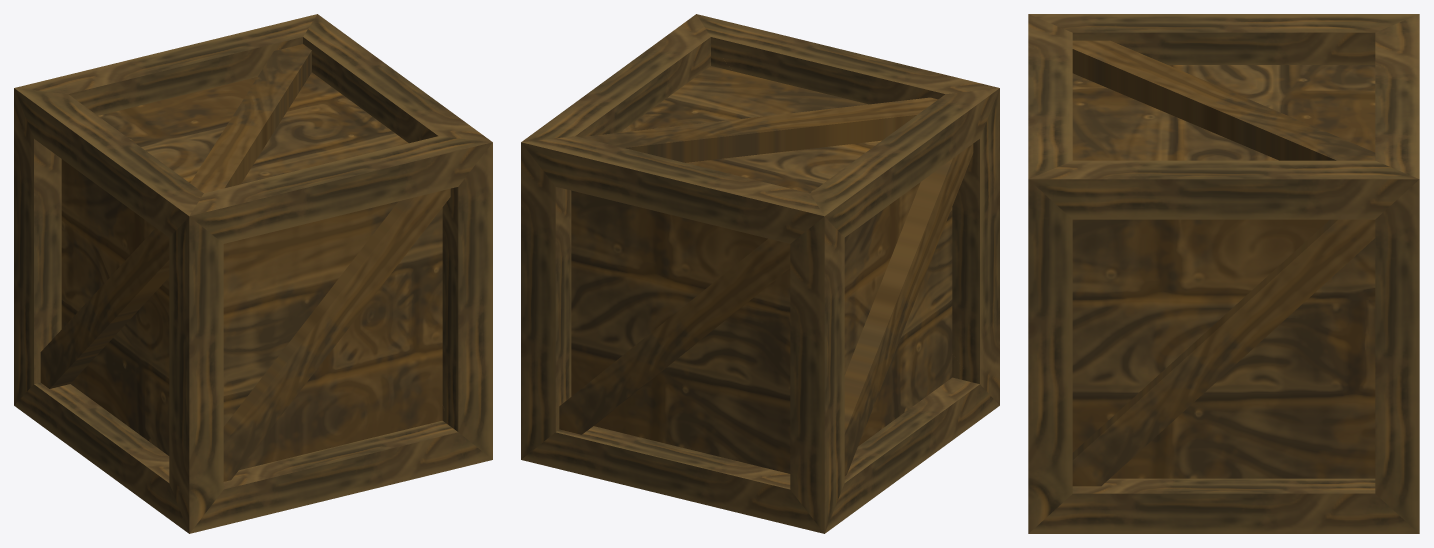
3 views of the same model, side by side, from view 1: azimuth 30°, elevation 25°; view 2: azimuth 150°, elevation 25°; view 3: azimuth 270°, elevation 25° (orthographic). The views are drawn at different scales.
Visible parts, largest first — view 1: Box_01; view 2: Box_01; view 3: Box_01.
Boxes of the visible parts, x1,y1,x2,y2 form: Box_01: [14, 14, 492, 533]; Box_01: [521, 14, 999, 533]; Box_01: [1028, 14, 1419, 533].
Size of the model in its own units: 200 by 200 by 200.
